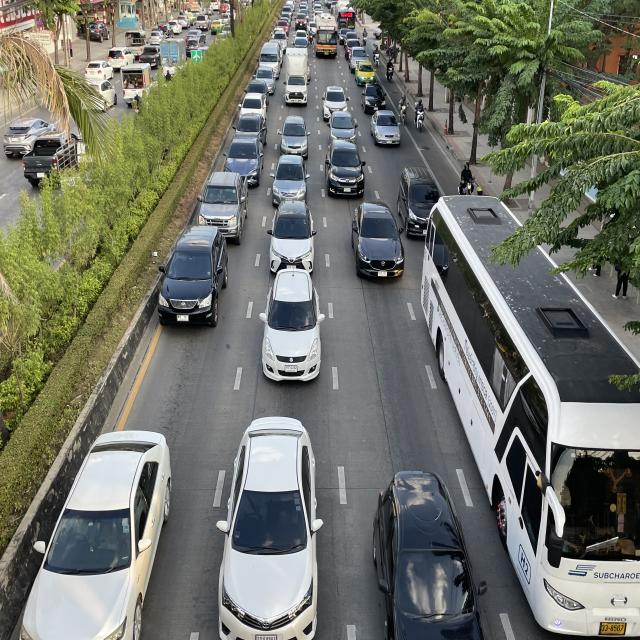bus: (417, 188, 640, 640)
truck: (282, 41, 313, 110)
